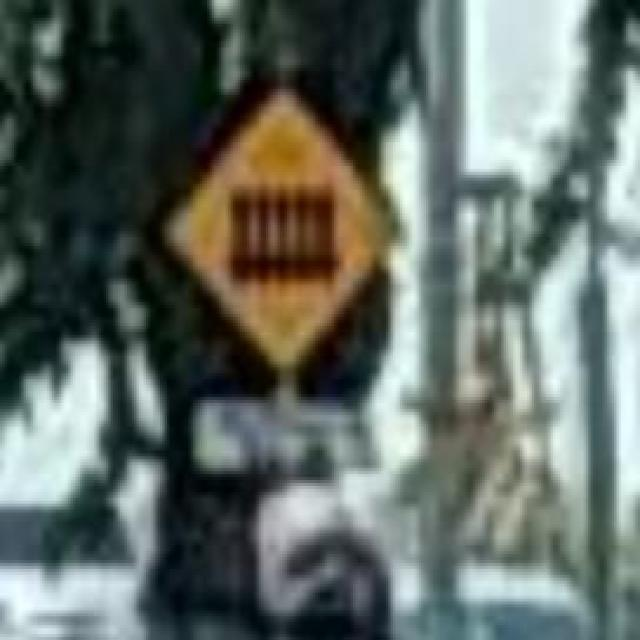traffic sign: (179, 98, 388, 358)
